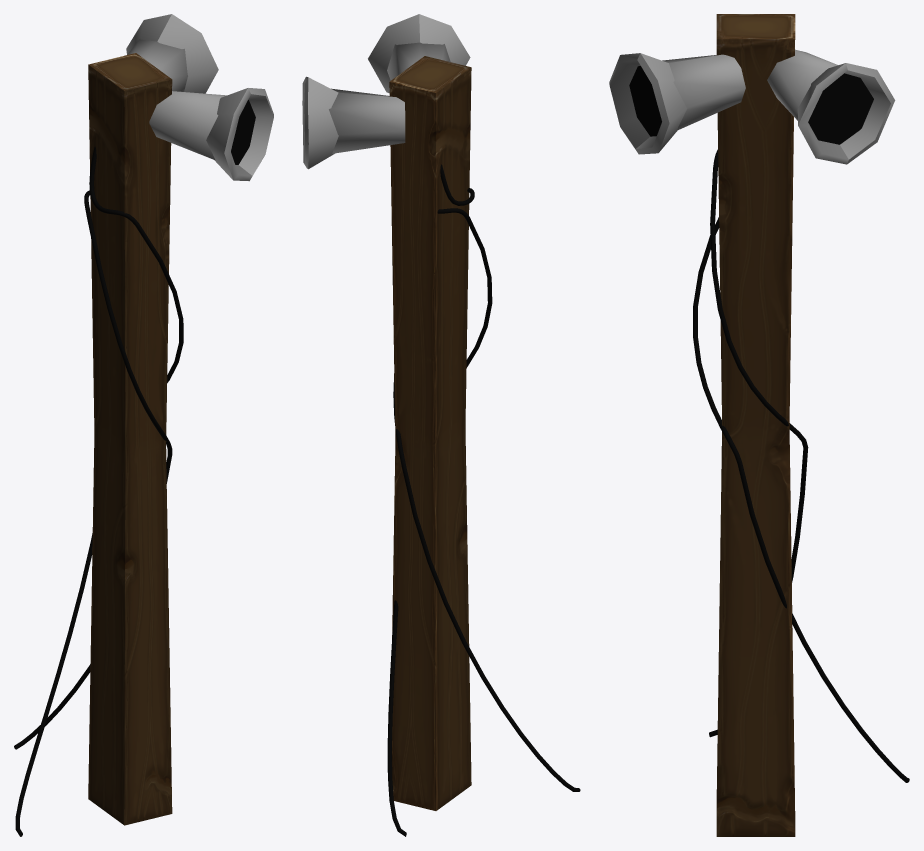
The model's file is Speaker Pole.fbx.
The picture shows the model from 3 angles, left to right: view 1: azimuth 30°, elevation 25°; view 2: azimuth 150°, elevation 25°; view 3: azimuth 270°, elevation 25°; orthographic projection. The views are drawn at different scales.
Parts seen in each view (by area): view 1: Wood_Beam_003__1_, BézierCurve, BézierCurve.001; view 2: Wood_Beam_003__1_, BézierCurve, BézierCurve.001; view 3: Wood_Beam_003__1_, BézierCurve.001, BézierCurve.
Boxes of the visible parts, left/top/right/bottom form: Wood_Beam_003__1_: left=88, top=14, right=273, bottom=825; BézierCurve: left=15, top=146, right=183, bottom=836; BézierCurve.001: left=14, top=190, right=172, bottom=749; Wood_Beam_003__1_: left=302, top=14, right=471, bottom=810; BézierCurve: left=393, top=164, right=580, bottom=791; BézierCurve.001: left=387, top=208, right=492, bottom=836; Wood_Beam_003__1_: left=609, top=14, right=895, bottom=836; BézierCurve.001: left=693, top=217, right=909, bottom=782; BézierCurve: left=709, top=149, right=808, bottom=737.
Size of the model in its own units: 157 by 463 by 156.
4 materials, 1 textured.
